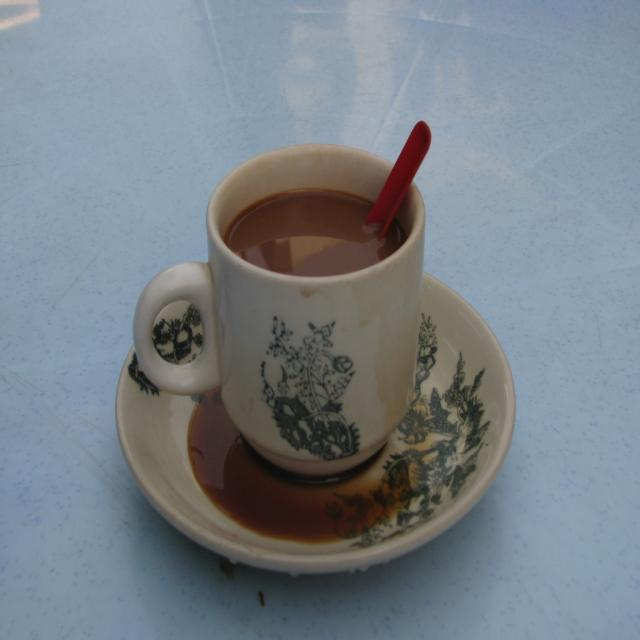Tea: (134, 134, 431, 496), (226, 188, 401, 276)
